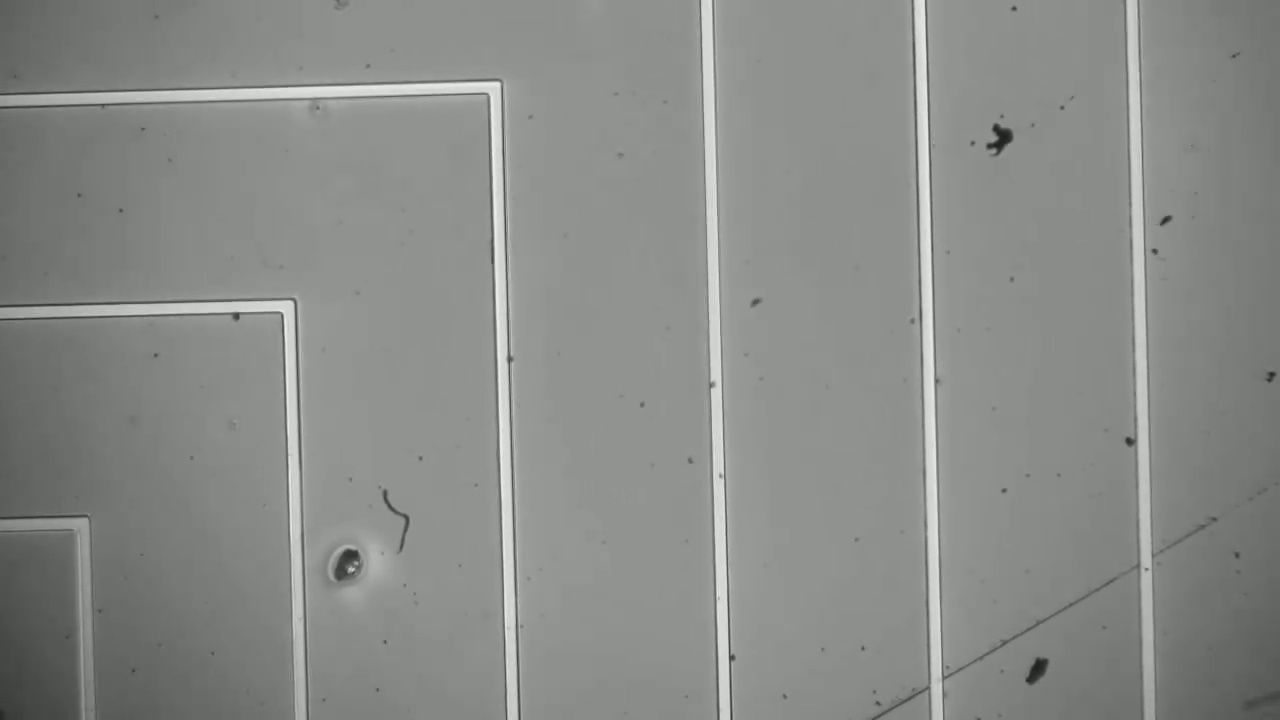scratch: (851, 483, 1258, 719)
